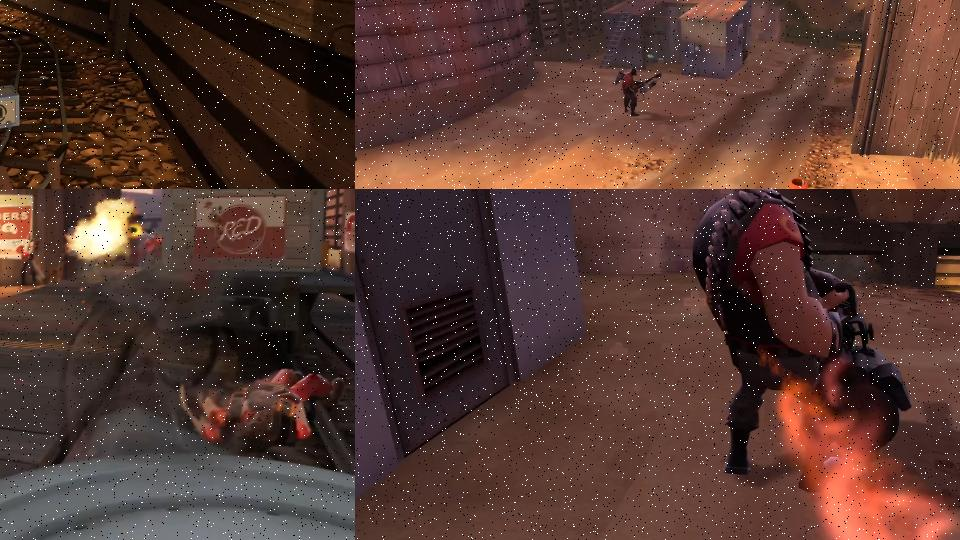Enemy: (690, 189, 912, 495), (181, 366, 348, 451), (611, 63, 666, 123), (17, 234, 46, 286)
